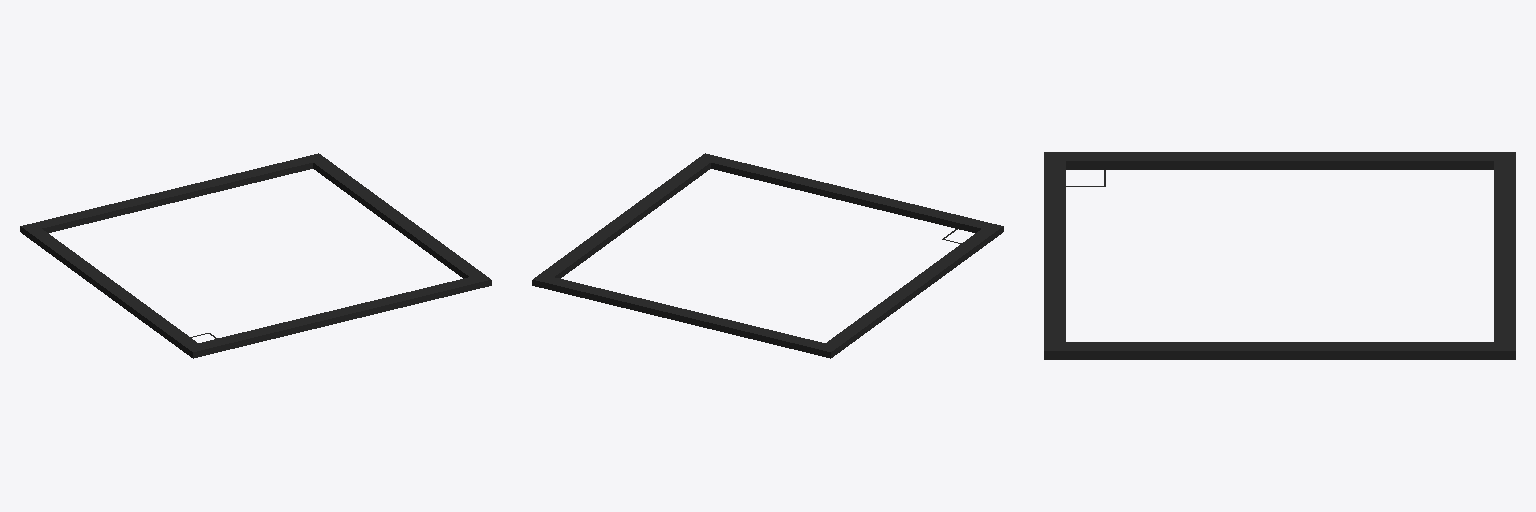
The robot description file, URDF, robot "Room6":
<robot name="Room6">
    <link name="_name">
        <visual> 
            <origin rpy="0.0 0.0 0.0" xyz="-0.5022256105567316 -0.49777203678940296 -0.009999999999999998" />
                <geometry>
                    <mesh filename="Room6/Room6.obj" scale="1 1 0.1" />
                </geometry>

            <material name="black">
                <color rgba="0.2 0.2 0.2 0.95" />
            </material>
        </visual>

       <collision concave="yes" name="collision_0">
            <origin rpy="0.0 0.0 0.0" xyz="-0.5022256105567316 -0.49777203678940296 -0.009999999999999998" />
            <geometry>
                <mesh filename="Room6/Room6_vhacd.obj" scale="1 1 0.1" />
            </geometry>
        </collision>

        <inertial> 
            <mass value="0" />
            <inertia ixx="0" ixy="0" ixz="0" iyy="0" iyz="0" izz="0" />
        </inertial> 
    </link>
</robot>

--- Render facts (derived) ---
The picture shows the robot from 3 angles, left to right: view 1: azimuth 30°, elevation 25°; view 2: azimuth 150°, elevation 25°; view 3: azimuth 270°, elevation 25°; orthographic projection.
Robot: Room6 — 1 links, 0 joints (none); root link _name; default pose: every joint at zero.
Visible links, largest first — view 1: _name; view 2: _name; view 3: _name.
Link boxes in pixels (x1=…): _name: x1=20, y1=153, x2=491, y2=358; _name: x1=532, y1=153, x2=1003, y2=358; _name: x1=1044, y1=152, x2=1515, y2=359.
Size in the robot's own frame: 1 by 1 by 0.02 metres.
1 mesh visuals loaded from 1 distinct referenced files (1 OBJ).